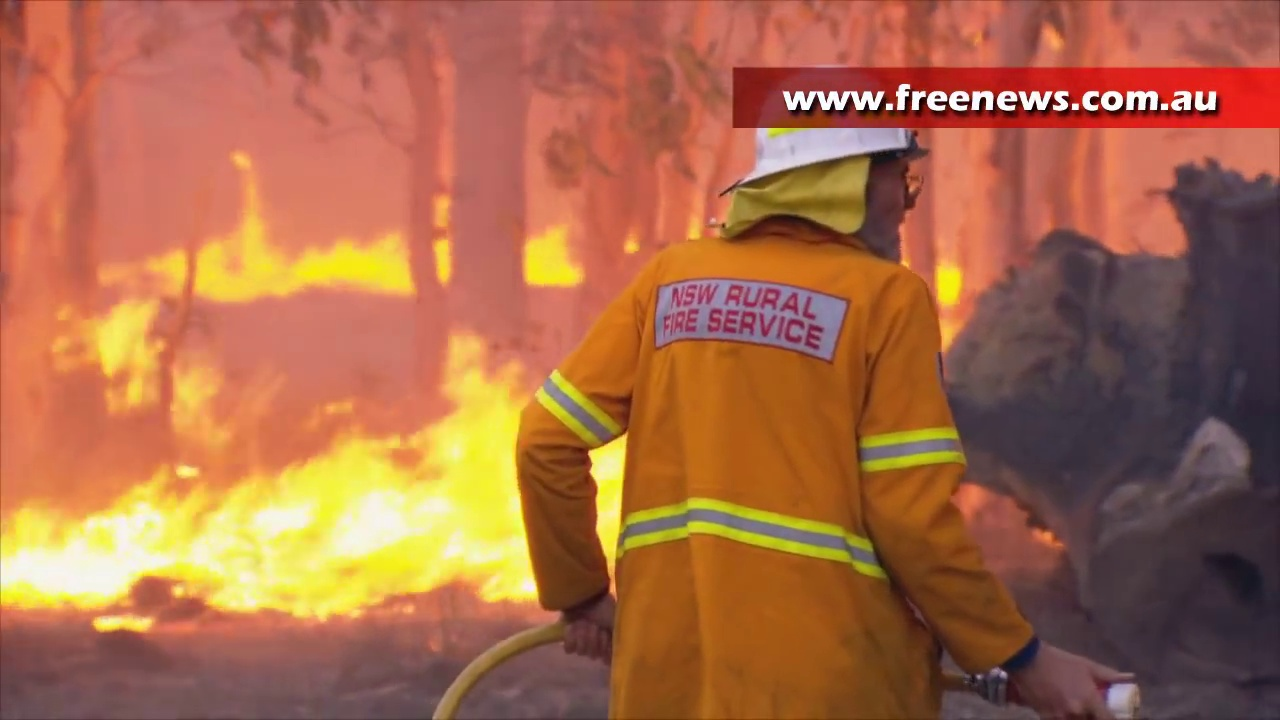fire: (1, 368, 511, 620), (132, 227, 411, 294), (95, 303, 157, 399), (522, 233, 577, 286)
